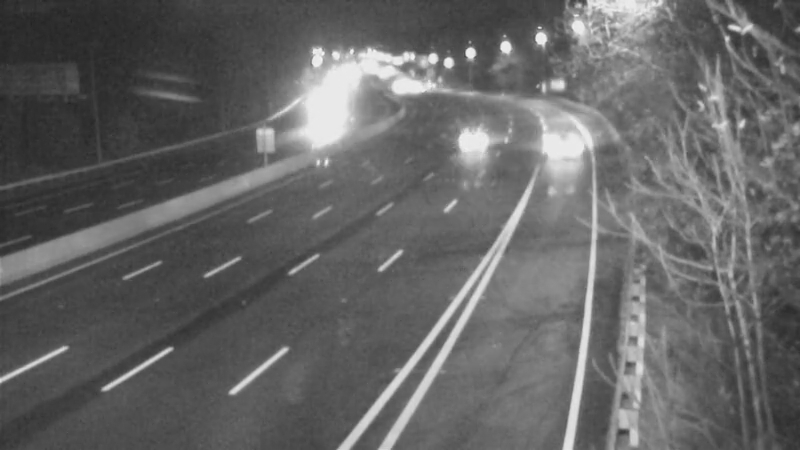vehicle: (523, 118, 573, 168), (444, 119, 494, 169), (279, 109, 329, 159)
